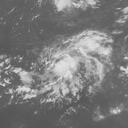cyclone: (21, 29, 114, 103)
